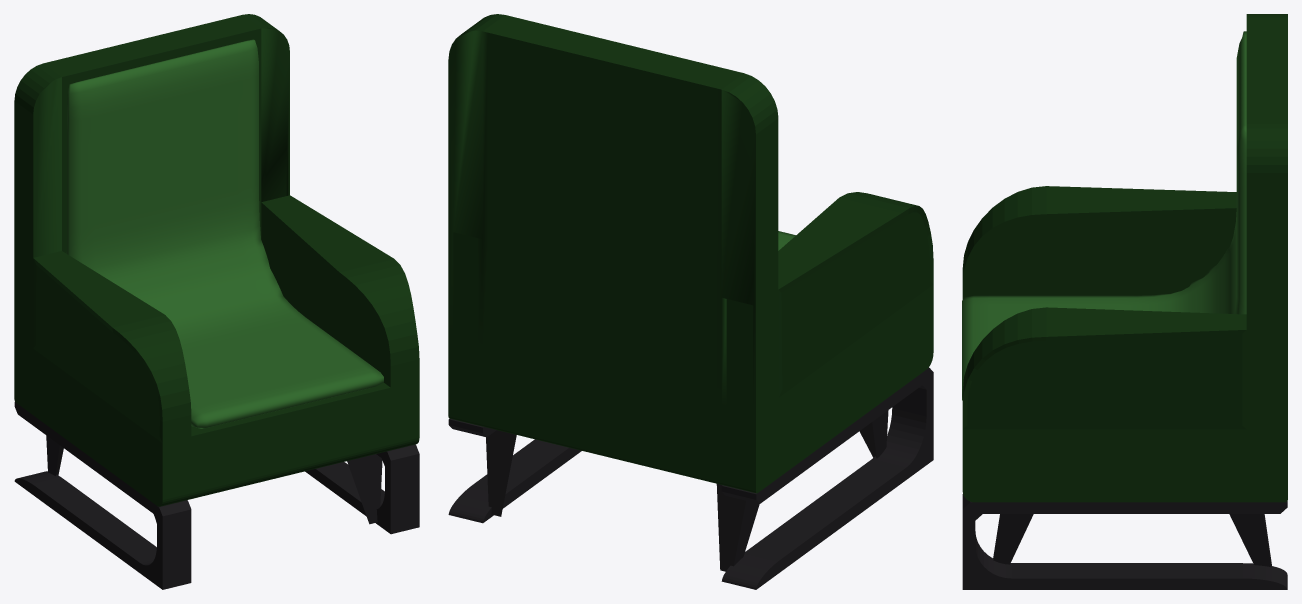
Rendered from chair.glb.
3 views of the same model, side by side, from view 1: azimuth 30°, elevation 25°; view 2: azimuth 150°, elevation 25°; view 3: azimuth 270°, elevation 25° (orthographic). The views are drawn at different scales.
Visible parts, largest first — view 1: Chair, Cushion, Legs1, Legs2; view 2: Chair, Legs1, Legs2; view 3: Chair, Legs1, Cushion, Legs2.
Part boxes in pixels (left/top/right/bottom): Chair: left=14, top=14, right=419, bottom=506; Cushion: left=66, top=39, right=383, bottom=428; Legs1: left=14, top=402, right=419, bottom=589; Legs2: left=46, top=435, right=382, bottom=524; Chair: left=448, top=14, right=933, bottom=493; Legs1: left=448, top=367, right=933, bottom=589; Legs2: left=486, top=410, right=888, bottom=571; Chair: left=962, top=14, right=1287, bottom=502; Legs1: left=962, top=494, right=1287, bottom=589; Cushion: left=962, top=31, right=1246, bottom=400; Legs2: left=993, top=514, right=1271, bottom=566.
Bounding box in the file's own units: 2.2 × 3.06 × 2.
